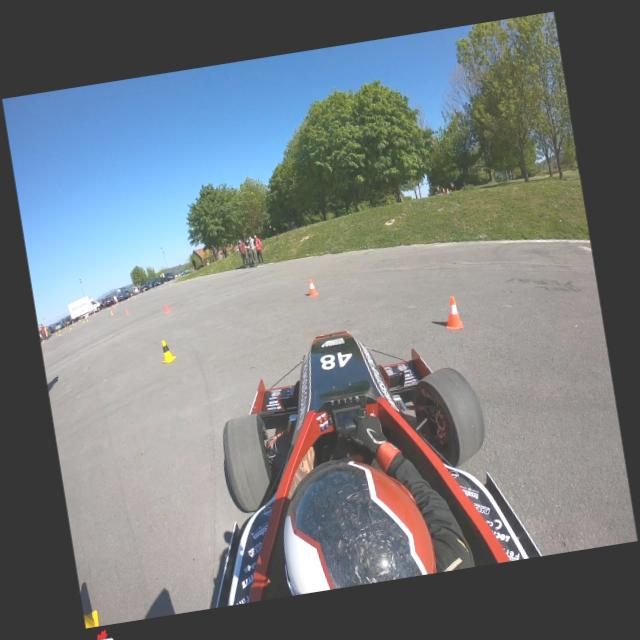orange_cone: (442, 295, 464, 331), (306, 278, 318, 297)
unknown_cone: (163, 302, 171, 314), (125, 308, 130, 315), (110, 310, 114, 316)
yellow_cone: (159, 338, 177, 363)
